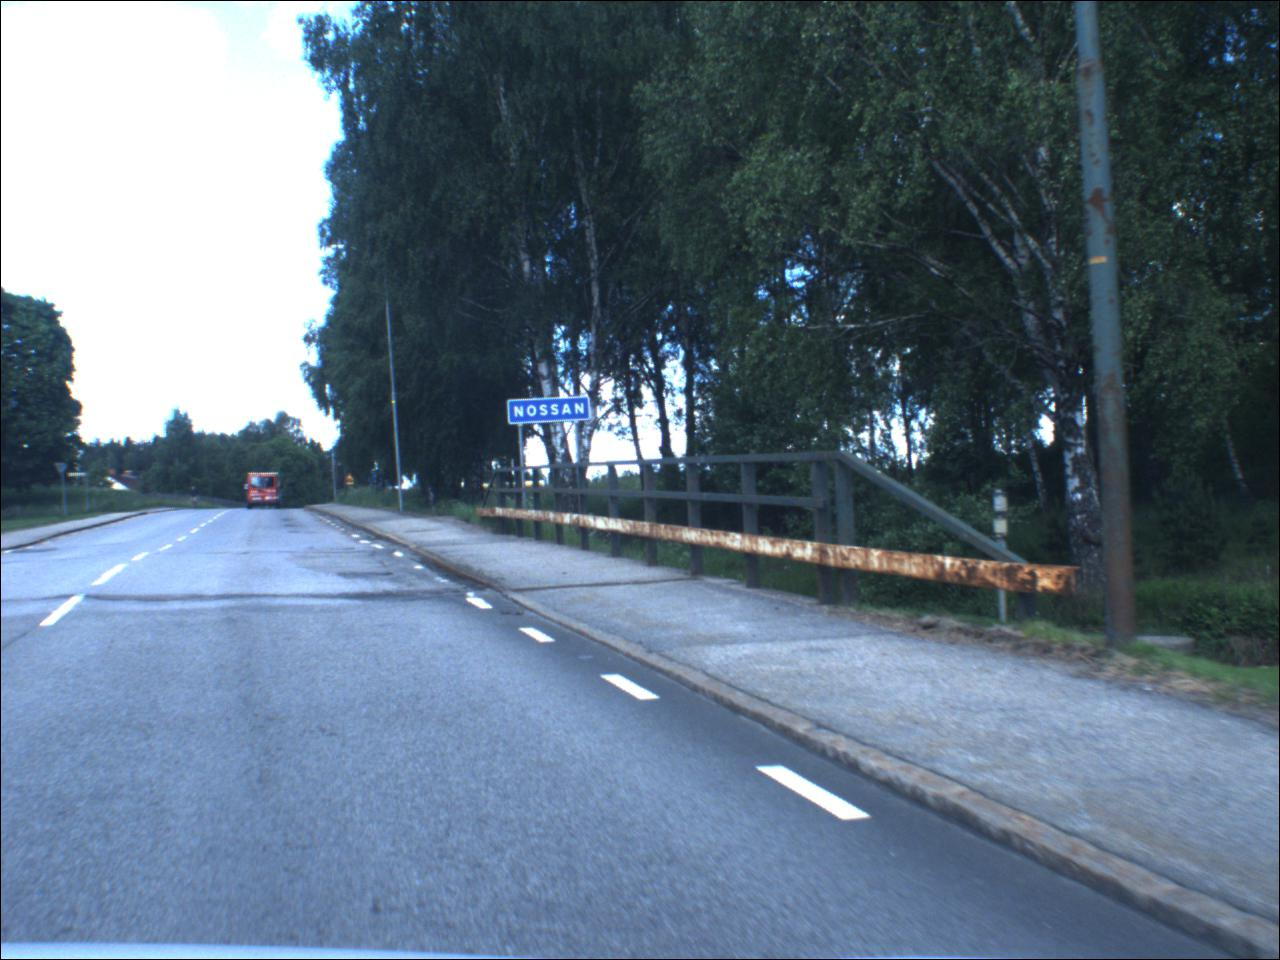WARNING_BAD_ROAD: (347, 473, 357, 483)
